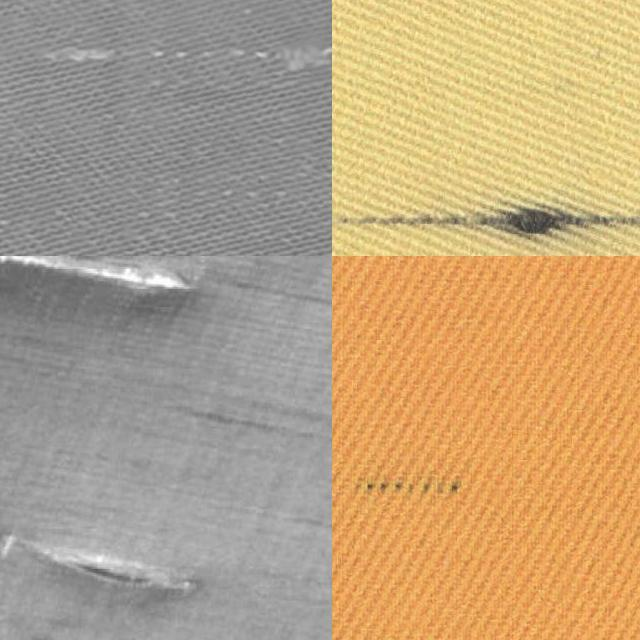Thread_other: (332, 0, 640, 256), (36, 0, 332, 156), (332, 429, 538, 572)
seam: (0, 483, 221, 627), (0, 256, 224, 330)
